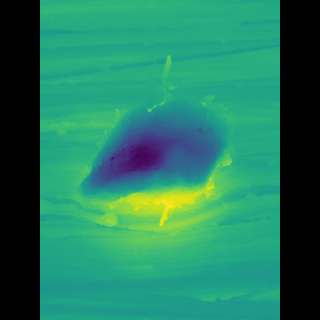Loch: (92, 88, 224, 232)
